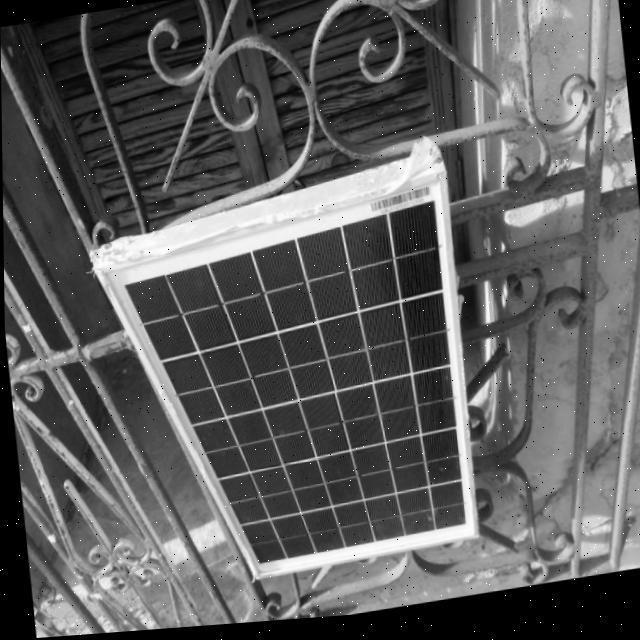Normal Solar Panel: (96, 178, 480, 600)
